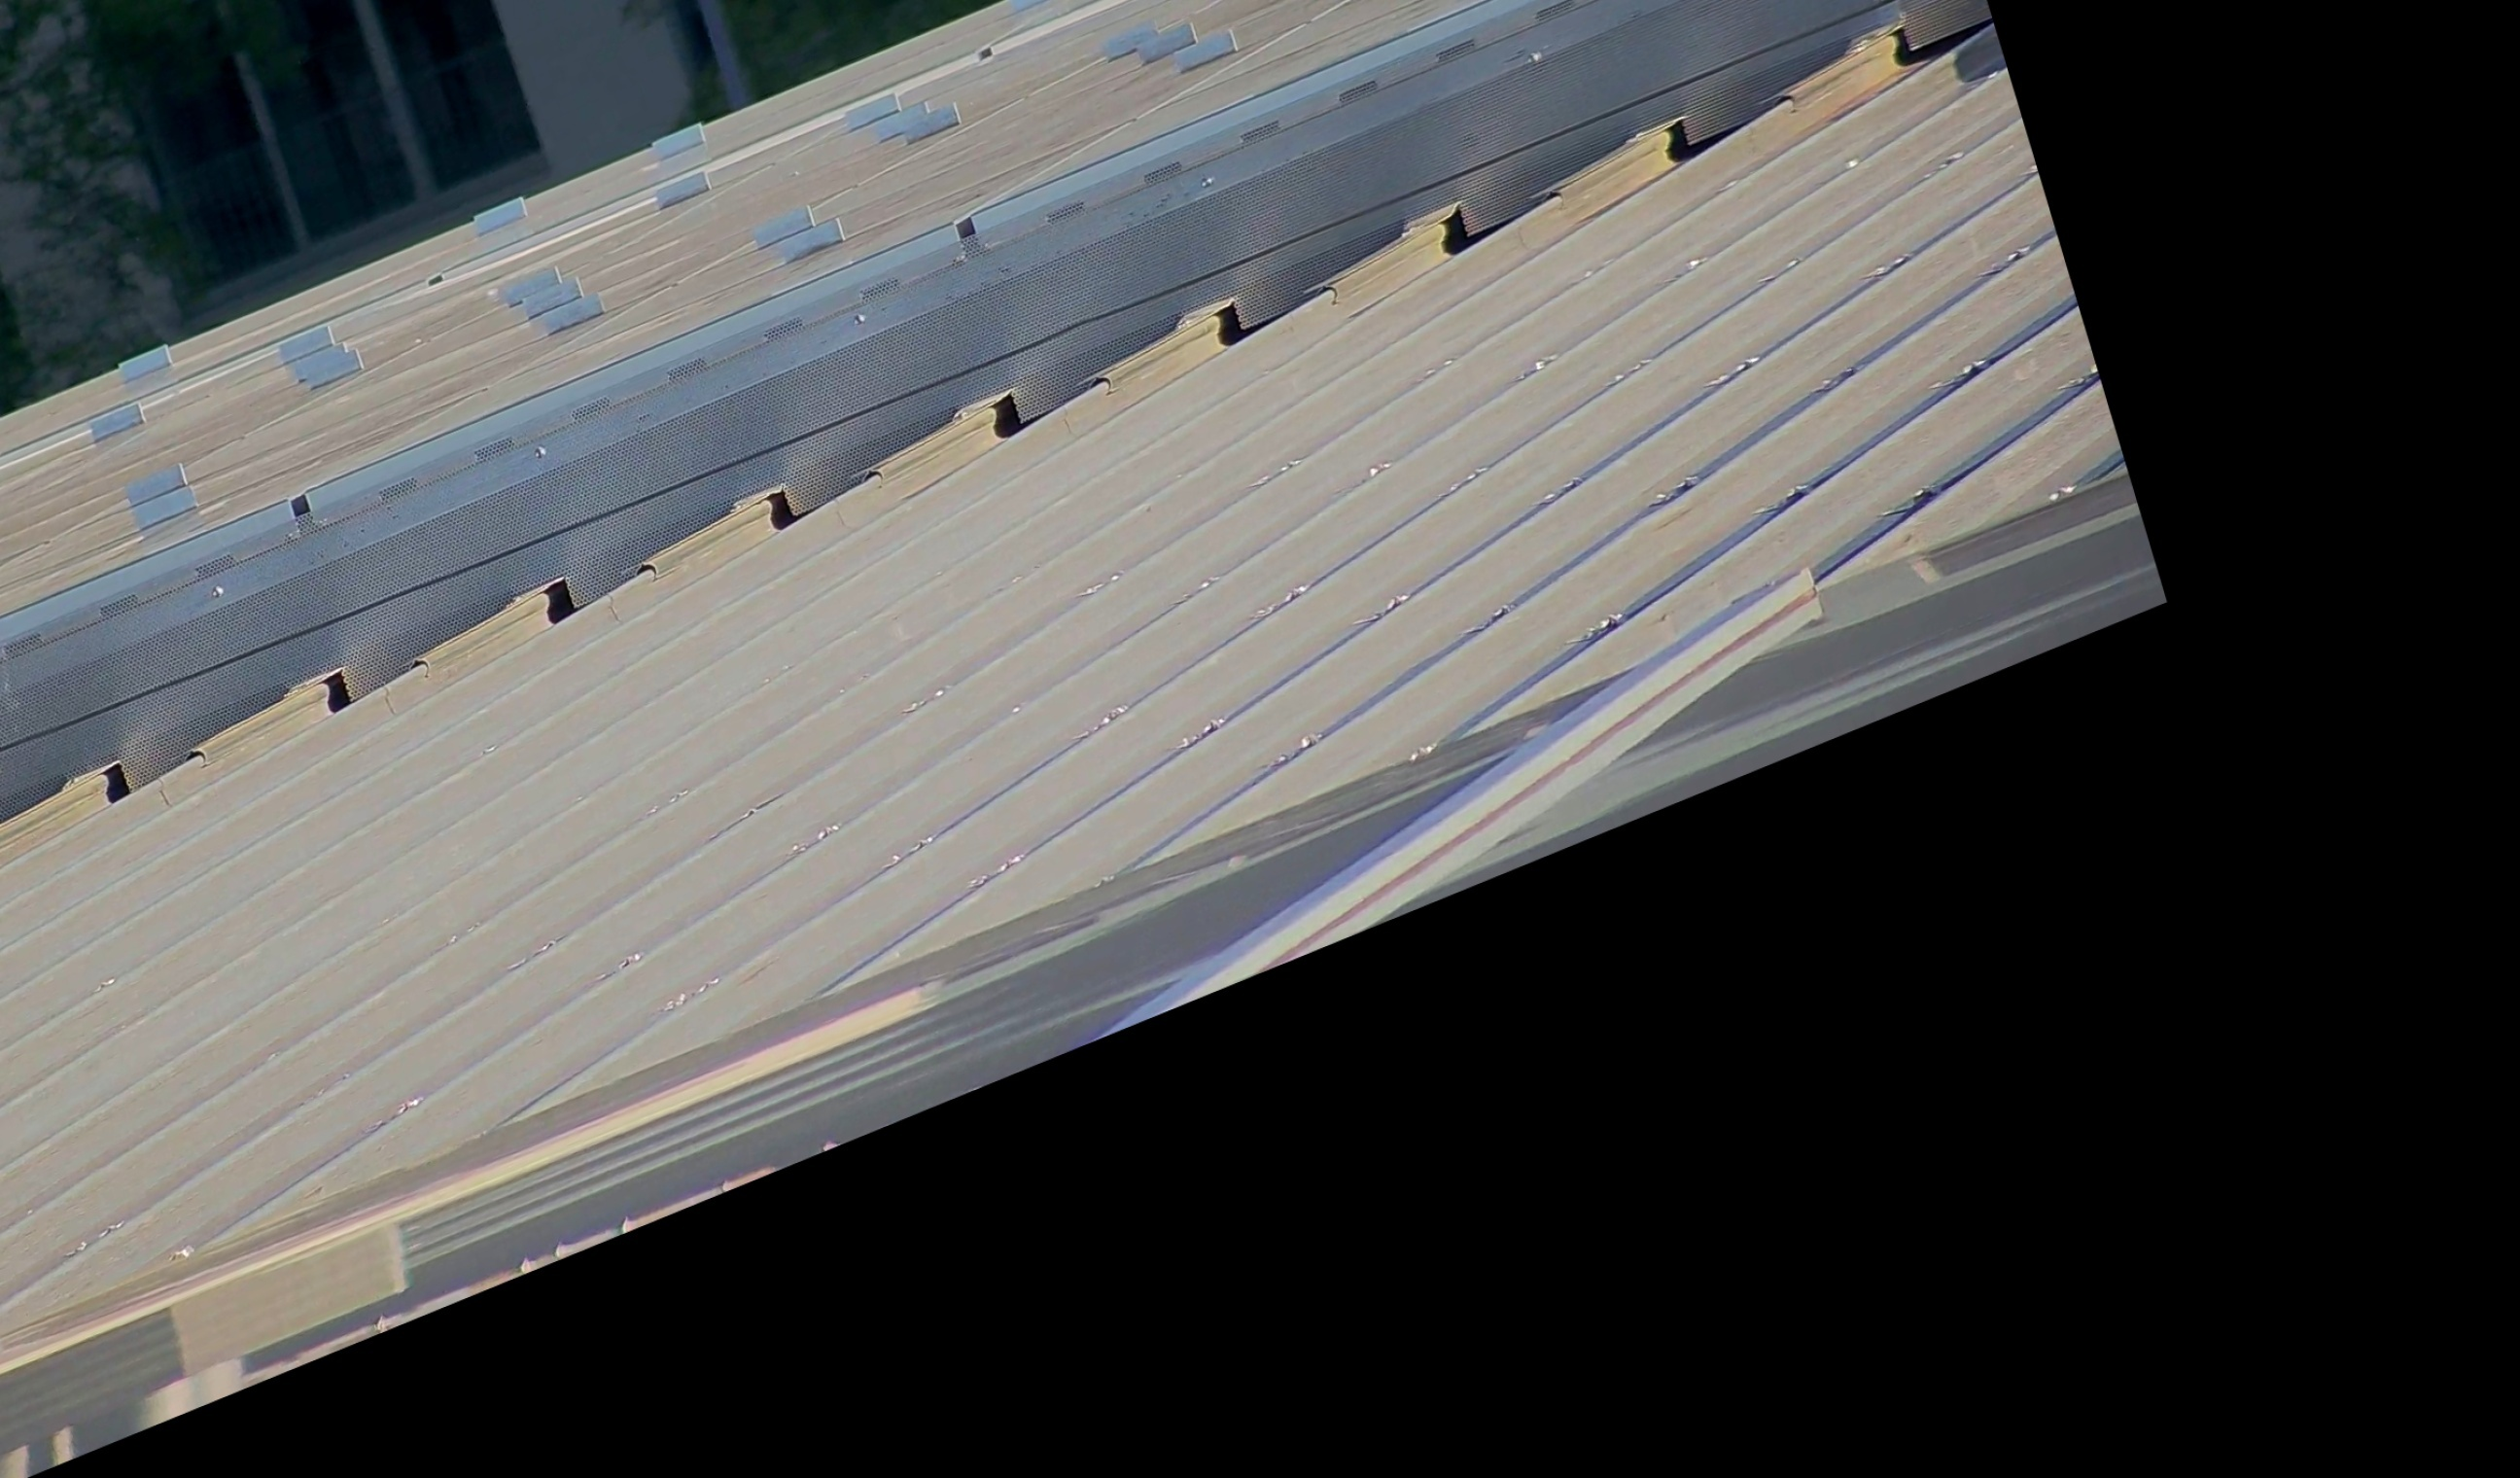Other: (1440, 179, 1512, 255)
